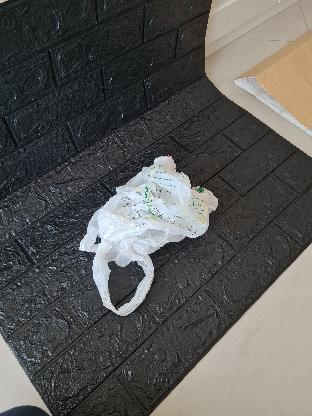Plastic Bag: (80, 155, 220, 315)
